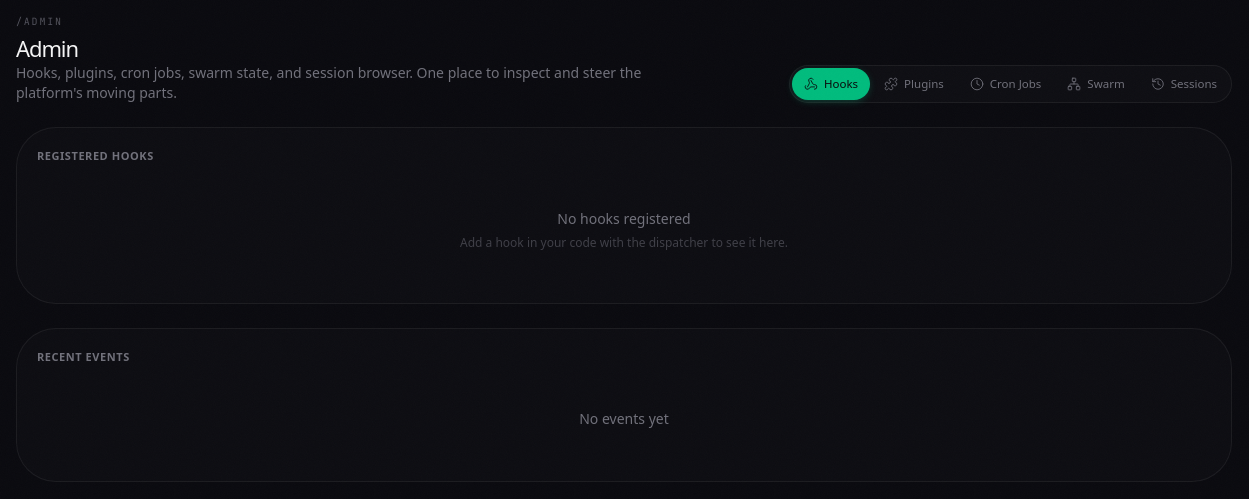
Scenario: Admin Page › switches to Swarm tab on click
What coordinates should you click on to do the following:
click the button "Swarm"
I would click on:
 (1096, 84)
Its box is x1=1055 y1=68 x2=1137 y2=100.
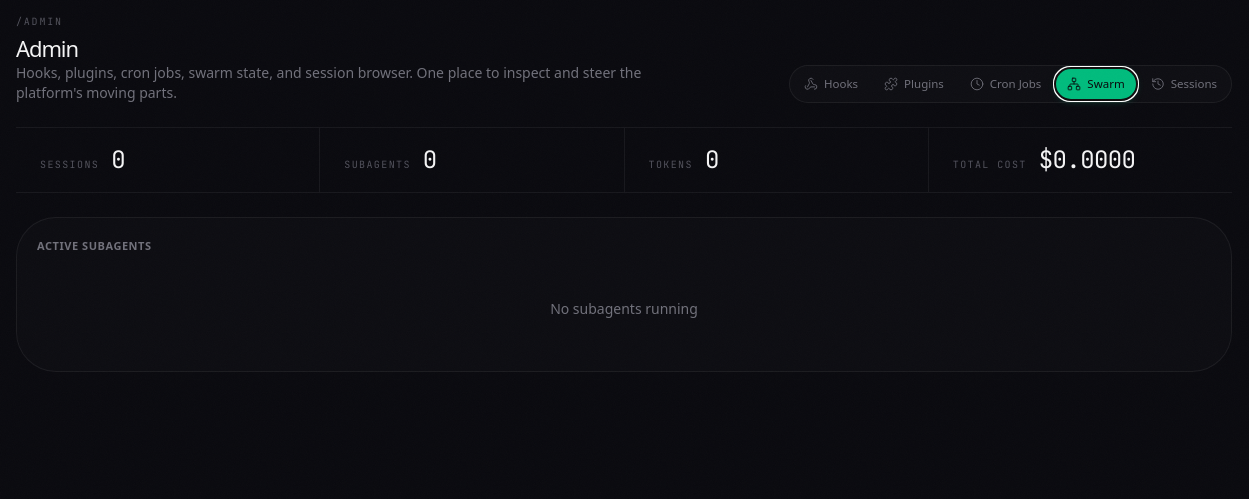
Now the text "Active Subagents" is shown, box x1=37 y1=238 x2=152 y2=253
